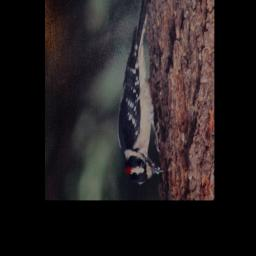Woodpecker: (115, 0, 164, 188)
